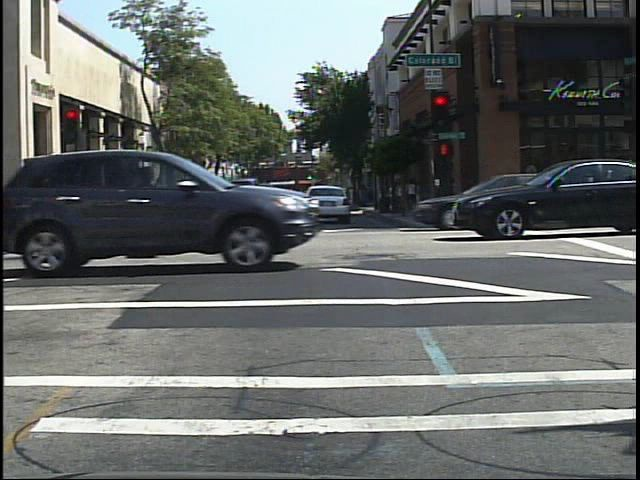person: (161, 181, 178, 217), (89, 188, 104, 228), (138, 181, 156, 212)
